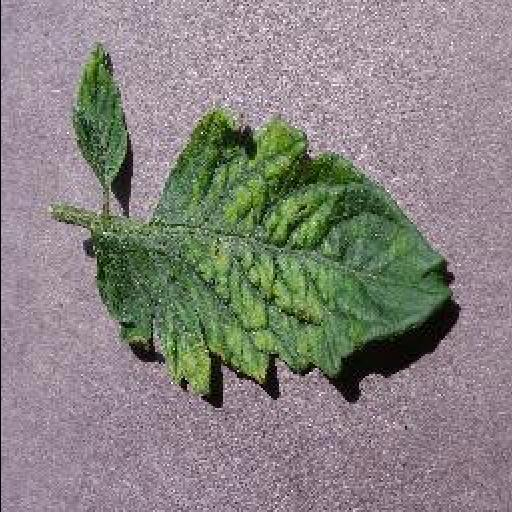Mosaic Virus: (84, 106, 458, 398), (70, 41, 131, 182)
